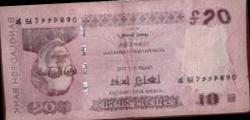10 taka: (0, 7, 249, 112)
